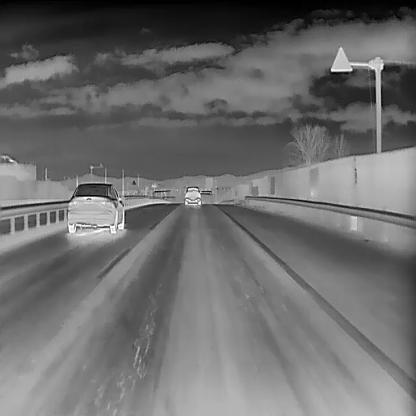car: (67, 182, 124, 233), (183, 185, 201, 205)
